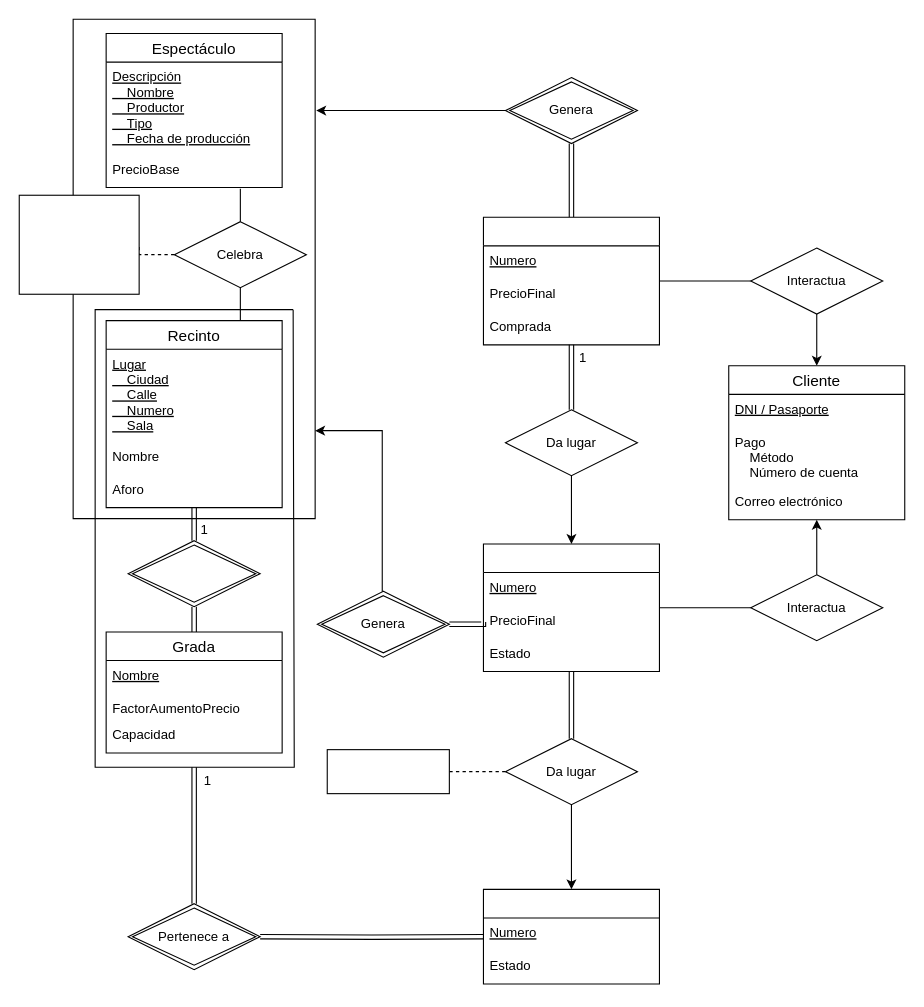
The diagram is 924 pixels wide and 1007 high, and some of its shapes have lost their labels. The shapes that lost their labels are listed below. From the top down, each one's box as (x1, y1, x2, y2) in pixels, then its label:
(18, 194, 139, 294): FechaInicio FechaFin FechaReservas FechaAnulacion Estado
(482, 216, 659, 345): EntradaAnulada
(127, 540, 260, 607): Compone
(482, 543, 659, 672): Entrada
(326, 749, 449, 794): FactorDescuento
(482, 888, 659, 984): Localidad
